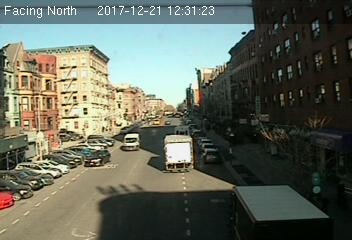car: (85, 148, 111, 166), (203, 148, 223, 164)
truck: (163, 135, 194, 173), (124, 133, 140, 151)
ups: (230, 184, 333, 240)
